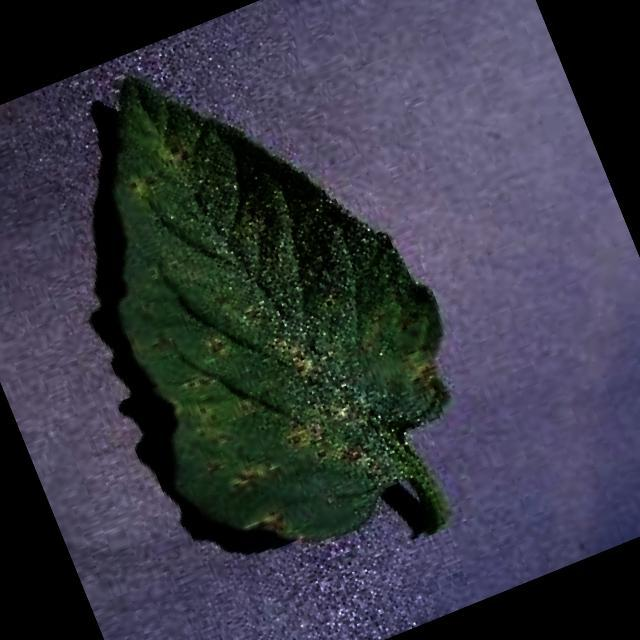Tomato Septoria spot leaf: (25, 0, 507, 588)
